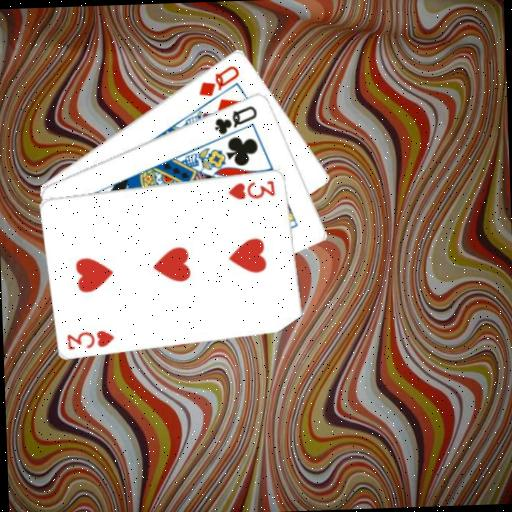3H: (64, 326, 117, 351), (225, 176, 277, 201)
QC: (210, 101, 259, 136)
QD: (194, 61, 241, 98)
